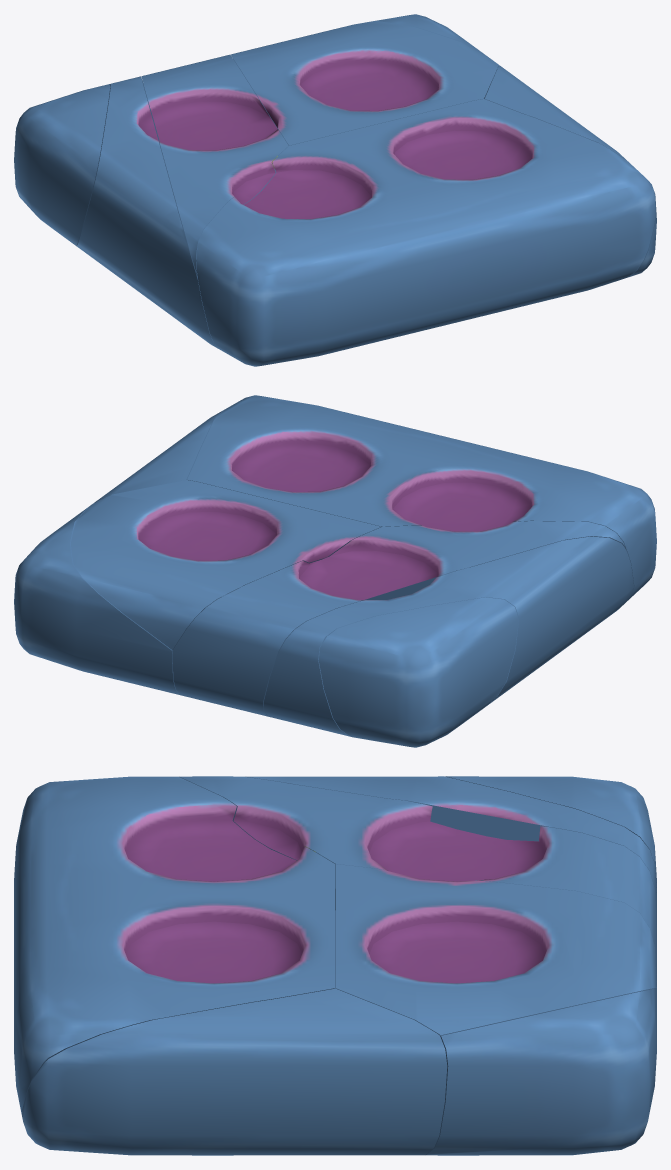
The model's file is arena block 3 broken.fbx.
3 views of the same model, one above another, from view 1: azimuth 30°, elevation 25°; view 2: azimuth 150°, elevation 25°; view 3: azimuth 270°, elevation 25° (orthographic). The views are drawn at different scales.
Visible parts, largest first — view 1: arena block 3 lp.002_cell.001, arena block 3 lp.002_cell.003, arena block 3 lp.002_cell.007, arena block 3 lp.002_cell.004, arena block 3 lp.002_cell, arena block 3 lp.002_cell.002, arena block 3 lp.002_cell.005; view 2: arena block 3 lp.002_cell.001, arena block 3 lp.002_cell.003, arena block 3 lp.002_cell.004, arena block 3 lp.002_cell.007, arena block 3 lp.002_cell, arena block 3 lp.002_cell.005, arena block 3 lp.002_cell.002; view 3: arena block 3 lp.002_cell.001, arena block 3 lp.002_cell.002, arena block 3 lp.002_cell.003, arena block 3 lp.002_cell.005, arena block 3 lp.002_cell.004, arena block 3 lp.002_cell.007, arena block 3 lp.002_cell.
Boxes of the visible parts, x1=… form: arena block 3 lp.002_cell.001: x1=196, y1=99, x2=655, y2=366; arena block 3 lp.002_cell.003: x1=230, y1=21, x2=498, y2=145; arena block 3 lp.002_cell.007: x1=76, y1=76, x2=218, y2=348; arena block 3 lp.002_cell.004: x1=141, y1=54, x2=288, y2=277; arena block 3 lp.002_cell: x1=14, y1=84, x2=110, y2=245; arena block 3 lp.002_cell.002: x1=484, y1=65, x2=656, y2=277; arena block 3 lp.002_cell.005: x1=367, y1=14, x2=498, y2=85; arena block 3 lp.002_cell.001: x1=187, y1=395, x2=656, y2=600; arena block 3 lp.002_cell.003: x1=71, y1=480, x2=381, y2=650; arena block 3 lp.002_cell.004: x1=172, y1=521, x2=625, y2=716; arena block 3 lp.002_cell.007: x1=264, y1=536, x2=633, y2=736; arena block 3 lp.002_cell: x1=318, y1=597, x2=518, y2=747; arena block 3 lp.002_cell.005: x1=14, y1=507, x2=179, y2=694; arena block 3 lp.002_cell.002: x1=93, y1=410, x2=222, y2=503; arena block 3 lp.002_cell.001: x1=14, y1=776, x2=335, y2=1118; arena block 3 lp.002_cell.002: x1=22, y1=988, x2=447, y2=1155; arena block 3 lp.002_cell.003: x1=336, y1=864, x2=656, y2=1035; arena block 3 lp.002_cell.005: x1=426, y1=988, x2=656, y2=1155; arena block 3 lp.002_cell.004: x1=179, y1=776, x2=656, y2=1007; arena block 3 lp.002_cell.007: x1=245, y1=776, x2=656, y2=925; arena block 3 lp.002_cell: x1=445, y1=776, x2=656, y2=892.
Bounding box in the file's own units: 200 × 49.89 × 200.
